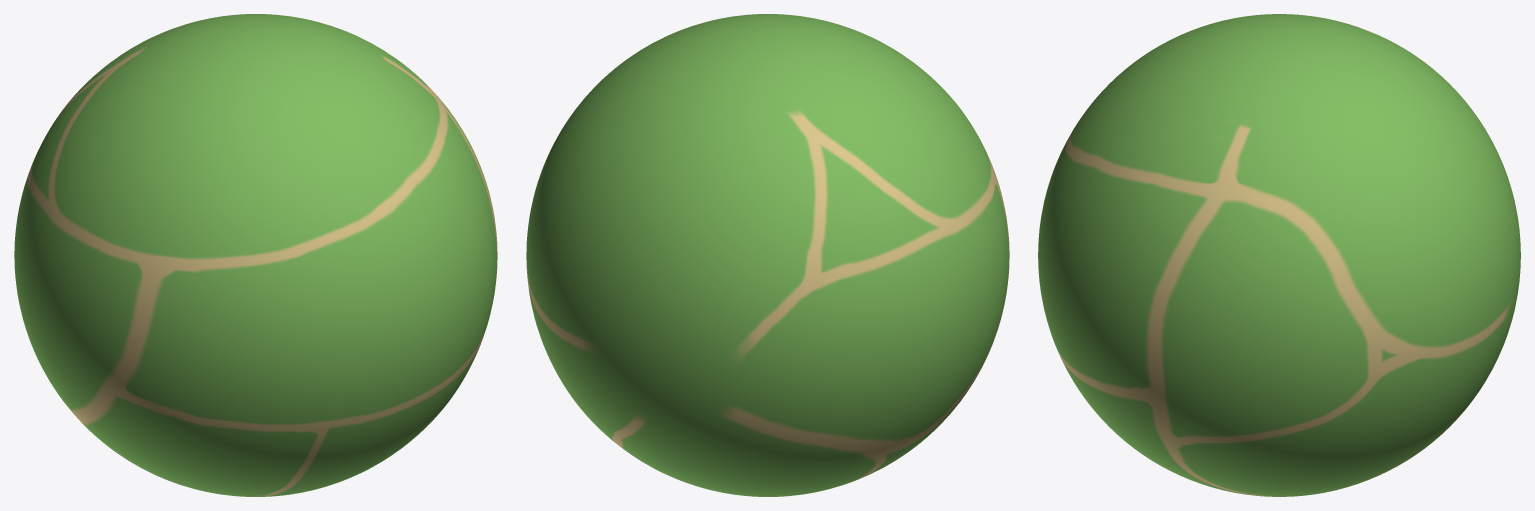
The model's file is world.obj.
3 views of the same model, side by side, from view 1: azimuth 30°, elevation 25°; view 2: azimuth 150°, elevation 25°; view 3: azimuth 270°, elevation 25° (orthographic).
Visible parts, largest first — view 1: world_Cube; view 2: world_Cube; view 3: world_Cube.
Boxes of the visible parts, x1,y1,x2,y2 form: world_Cube: [14, 14, 497, 496]; world_Cube: [526, 14, 1009, 496]; world_Cube: [1038, 14, 1520, 496].
Size of the model in its own units: 100 by 100 by 100.
